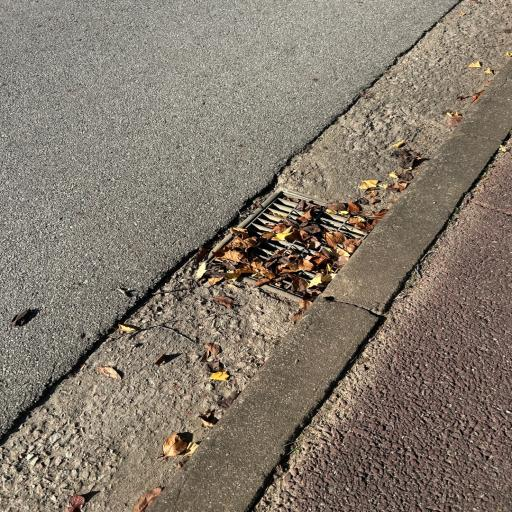debris: (261, 195, 319, 247)
drain: (217, 193, 383, 302)
